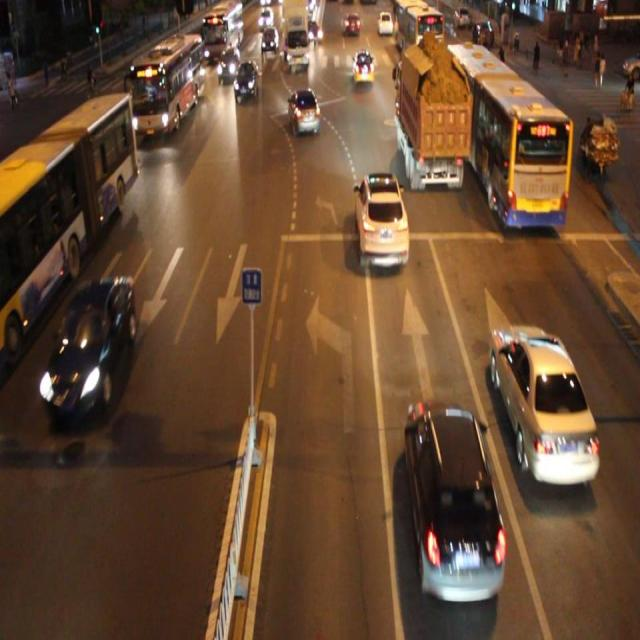bus: (397, 46, 464, 187)
car: (405, 399, 504, 600), (490, 324, 598, 485), (44, 273, 136, 427), (354, 173, 408, 264), (288, 86, 320, 137), (233, 60, 259, 101), (352, 49, 374, 84)
van: (1, 93, 133, 370), (446, 43, 569, 231), (124, 33, 203, 138)
